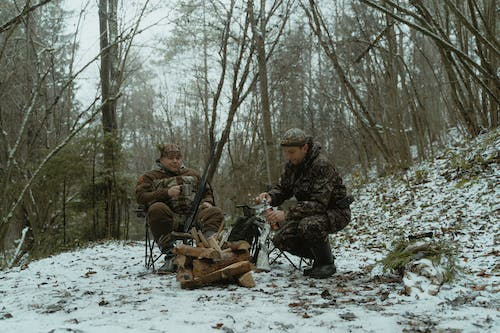gun: (182, 139, 219, 233)
